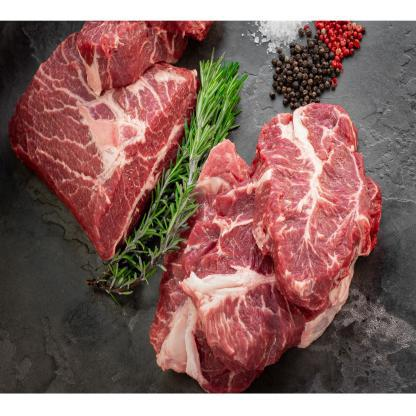beef: (191, 136, 374, 388), (28, 18, 169, 242)
